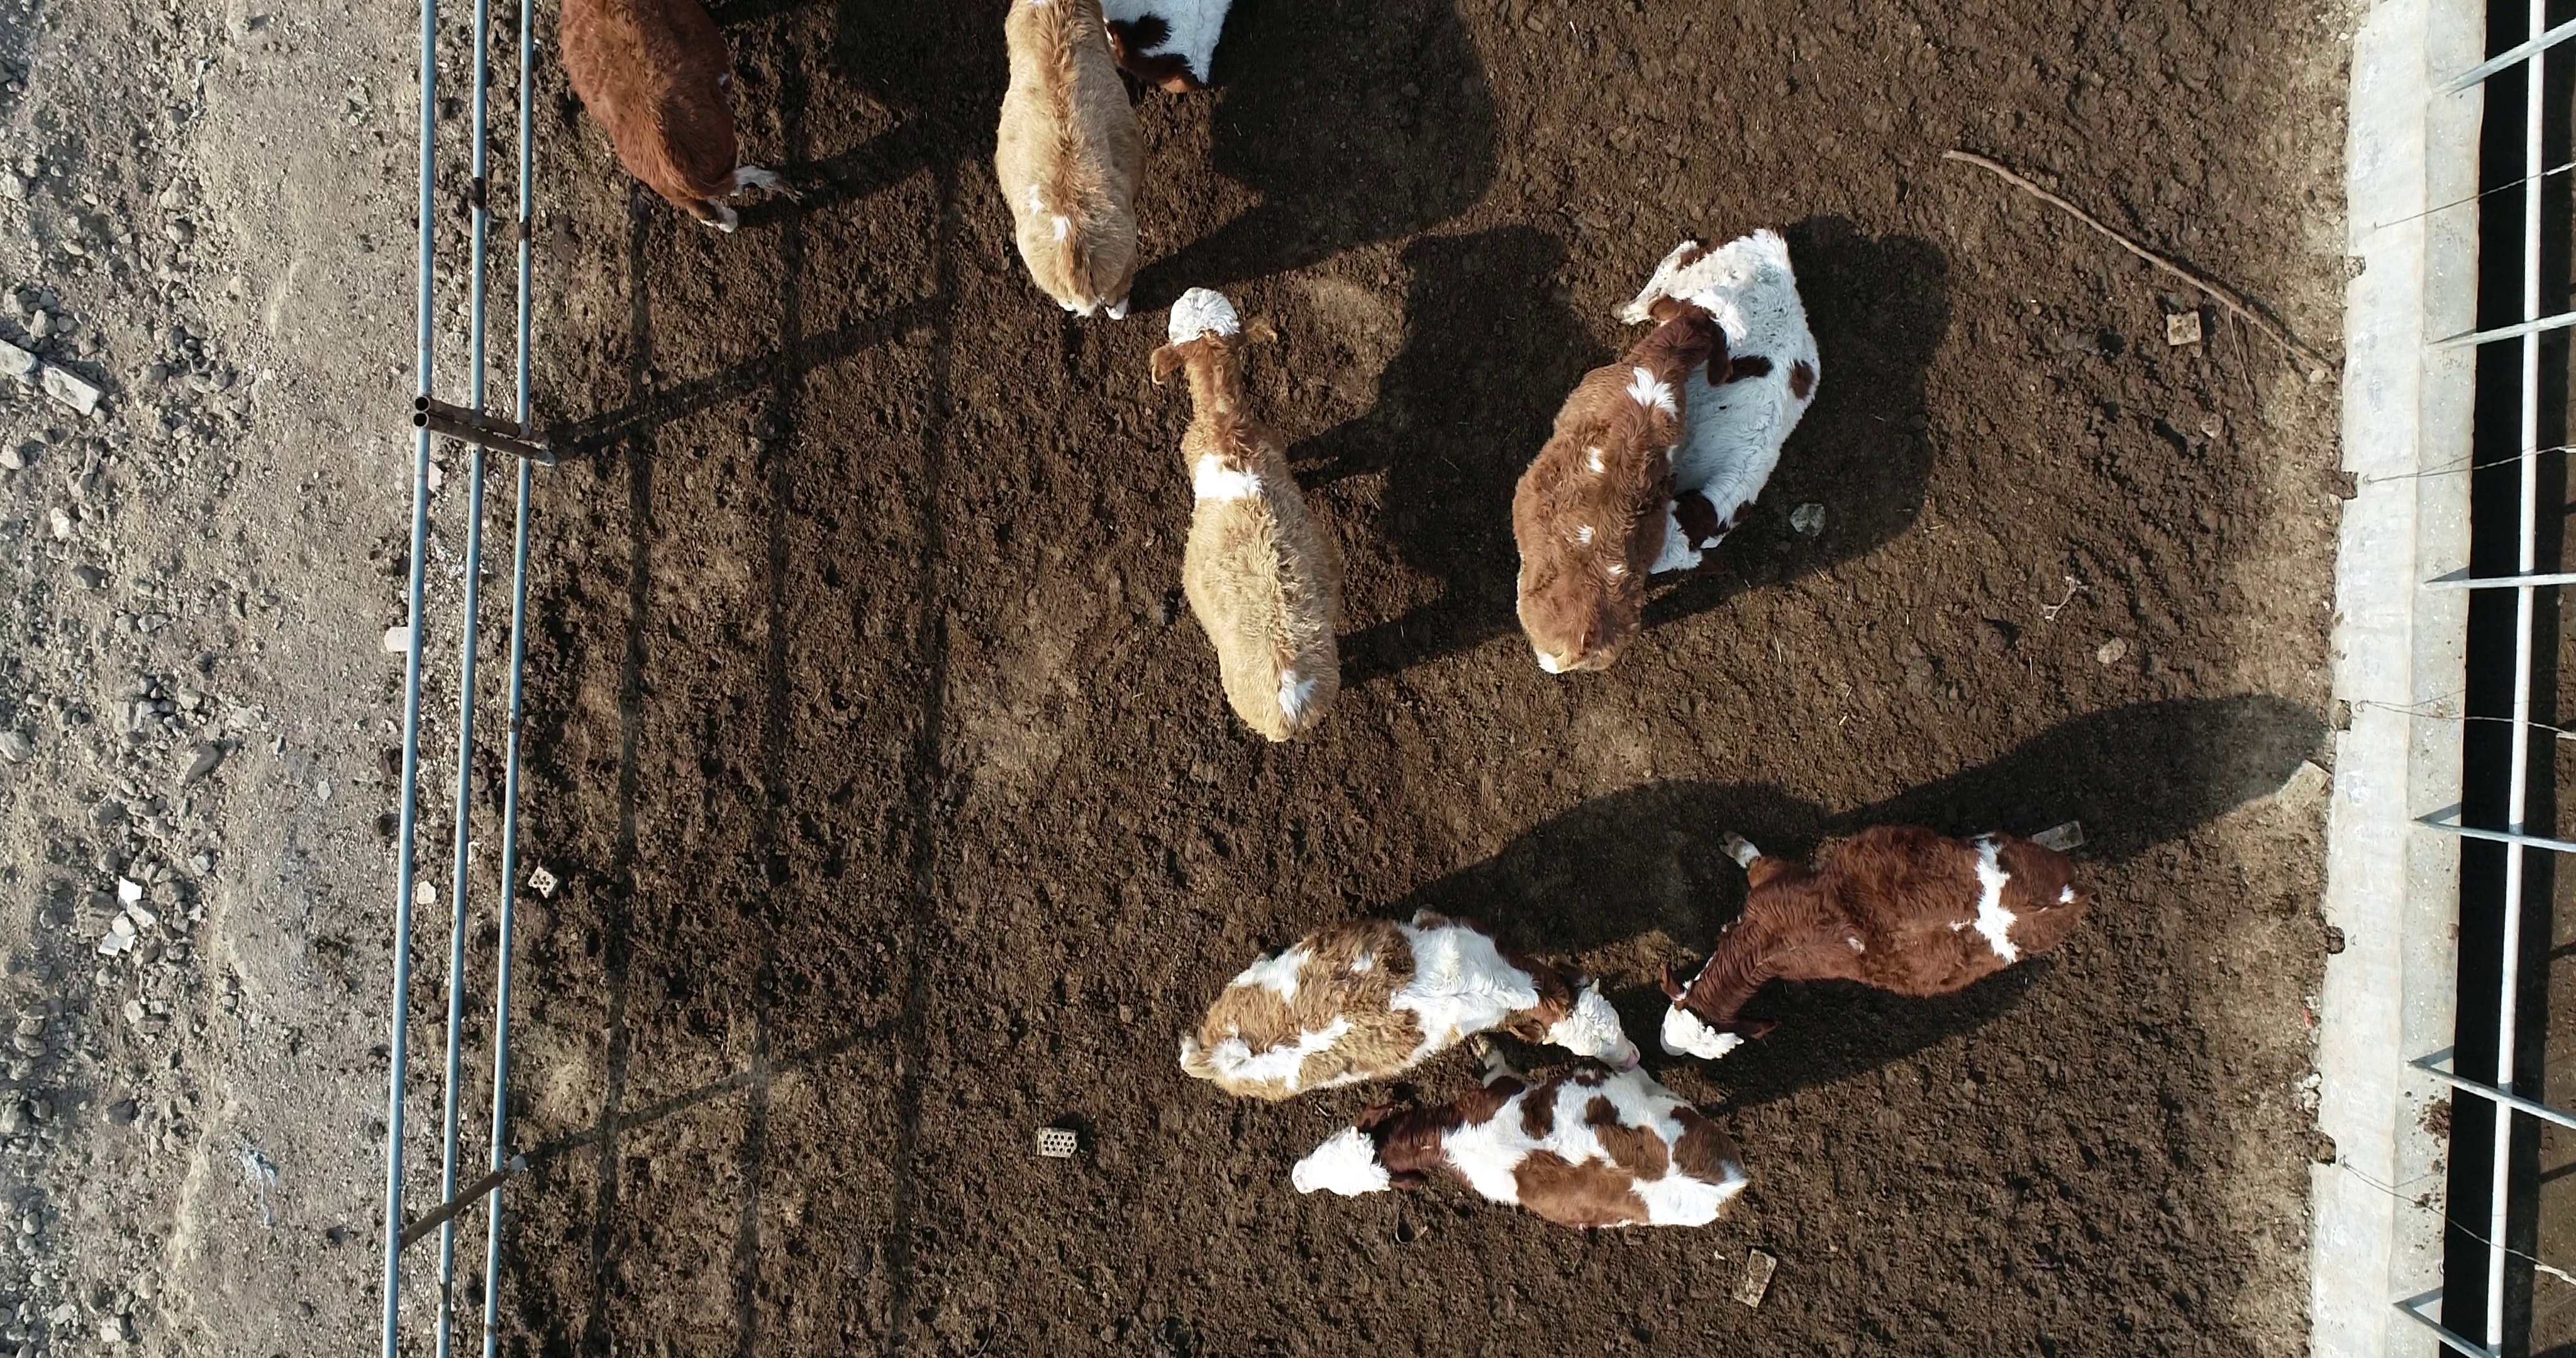cattle: (1653, 818, 2101, 1065), (1283, 1029, 1760, 1237), (1167, 906, 1646, 1109), (1504, 278, 1748, 675), (1145, 281, 1351, 750)
